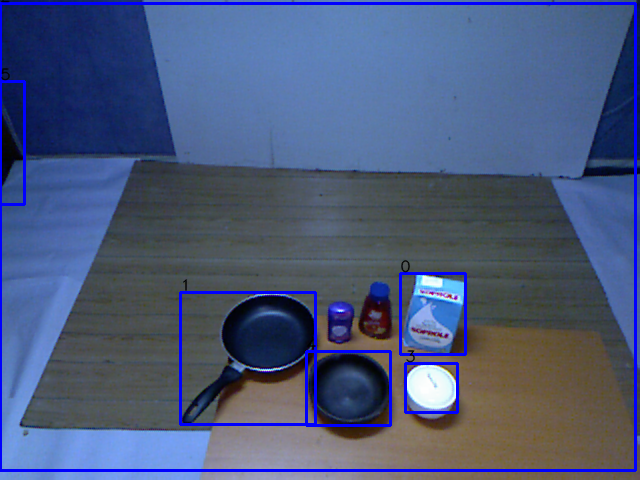azucarero: (400, 357, 463, 430)
desodorante: (320, 296, 358, 349)
greda: (305, 345, 395, 433)
ketchup: (356, 277, 399, 343)
leche: (401, 267, 470, 359)
sarten: (179, 288, 319, 426)
